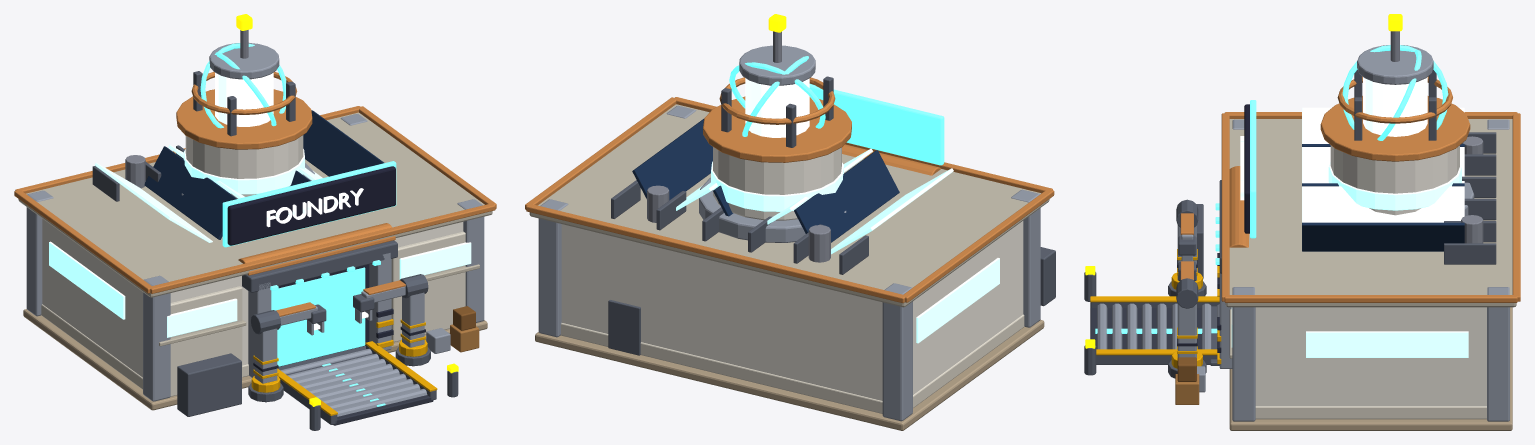
File: agent-foundry-Ewf0oxOc.glb
The picture shows the model from 3 angles, left to right: view 1: azimuth 30°, elevation 25°; view 2: azimuth 150°, elevation 25°; view 3: azimuth 270°, elevation 25°; orthographic projection. The views are drawn at different scales.
Parts seen in each view (by area): view 1: roof_slab, hall, sign_board, portal_field, core_collar, skylight_back_0, core_shaft, front_panel_r, rack_frame, front_panel_l, column_ws, roof_fascia_0 (+47 smaller); view 2: hall, roof_slab, plinth, base_band, sign_rim, core_collar, core_shaft, skylight_back_0, column_wn, roof_fascia_1, skylight_back_2, column_en (+21 smaller); view 3: roof_slab, hall, skylight_back_2, core_collar, glass_band_r, core_shaft, plinth, skylight_glass_2, base_band, column_es, column_en, core_orb (+36 smaller).
Boxes of the visible parts, left/top/right/bottom form: roof_slab: left=18, top=112, right=492, bottom=297; hall: left=42, top=218, right=463, bottom=377; sign_board: left=227, top=166, right=395, bottom=245; portal_field: left=271, top=267, right=365, bottom=366; core_collar: left=176, top=89, right=312, bottom=149; skylight_back_0: left=144, top=146, right=236, bottom=239; core_shaft: left=185, top=135, right=303, bottom=198; front_panel_r: left=391, top=231, right=465, bottom=342; rack_frame: left=177, top=353, right=241, bottom=416; front_panel_l: left=170, top=286, right=242, bottom=396; column_ws: left=143, top=275, right=170, bottom=401; roof_fascia_0: left=150, top=203, right=495, bottom=293; hall: left=561, top=221, right=1023, bottom=400; roof_slab: left=529, top=104, right=1049, bottom=307; plinth: left=535, top=319, right=1044, bottom=430; base_band: left=560, top=314, right=1024, bottom=413; sign_rim: left=809, top=83, right=944, bottom=165; core_collar: left=703, top=96, right=851, bottom=162; core_shaft: left=713, top=147, right=841, bottom=220; skylight_back_0: left=794, top=150, right=899, bottom=242; column_wn: left=882, top=283, right=912, bottom=421; roof_fascia_1: left=526, top=204, right=904, bottom=303; skylight_back_2: left=632, top=119, right=712, bottom=200; column_en: left=538, top=199, right=568, bottom=337; roof_slab: left=1225, top=119, right=1516, bottom=307; hall: left=1255, top=307, right=1486, bottom=406; skylight_back_2: left=1302, top=222, right=1464, bottom=251; core_collar: left=1320, top=96, right=1470, bottom=161; glass_band_r: left=1306, top=331, right=1468, bottom=357; core_shaft: left=1330, top=145, right=1459, bottom=215; plinth: left=1229, top=307, right=1512, bottom=430; skylight_glass_2: left=1302, top=186, right=1464, bottom=222; base_band: left=1255, top=406, right=1486, bottom=419; column_es: left=1232, top=287, right=1255, bottom=421; column_en: left=1487, top=287, right=1509, bottom=421; core_orb: left=1363, top=77, right=1427, bottom=136.
Bounding box in the file's own units: 21.8 × 17.8 × 21.6.
